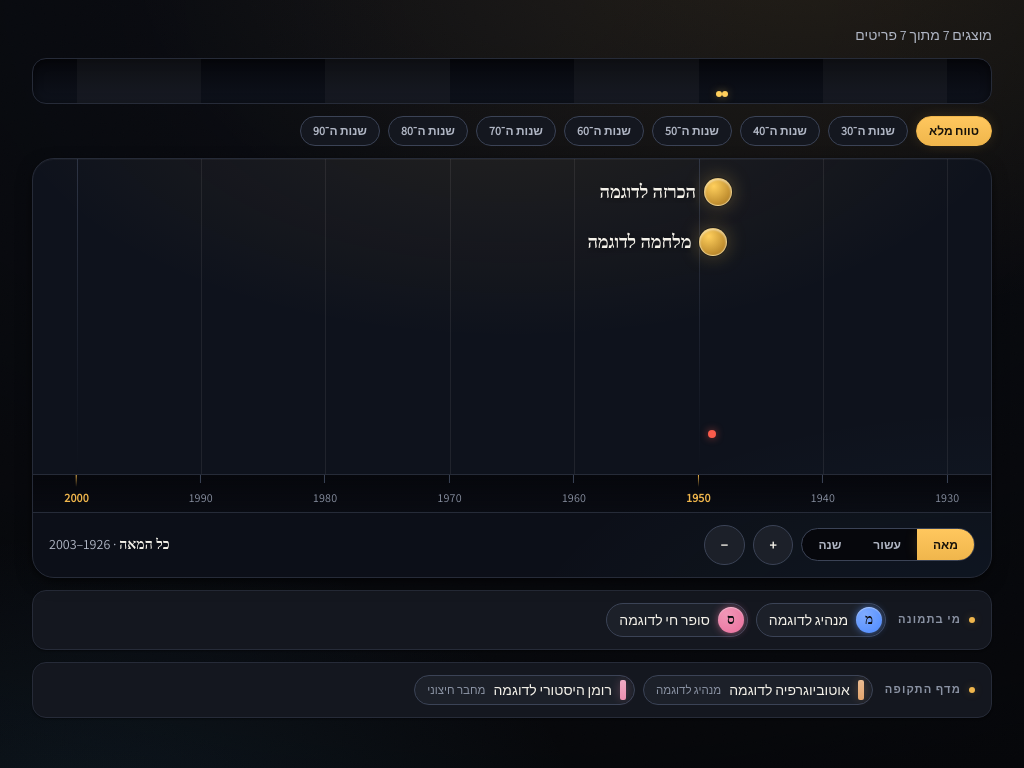
Scenario: TimelineWorkspace — desktop detail panel › person (cast strip) → work traversal re-selects without touching the window
People live in the cast strip (docs/spec/rendering.md), not on the canvas.
Click the button "מ מנהיג לדוגמה": (821, 620) [756,603,886,637]
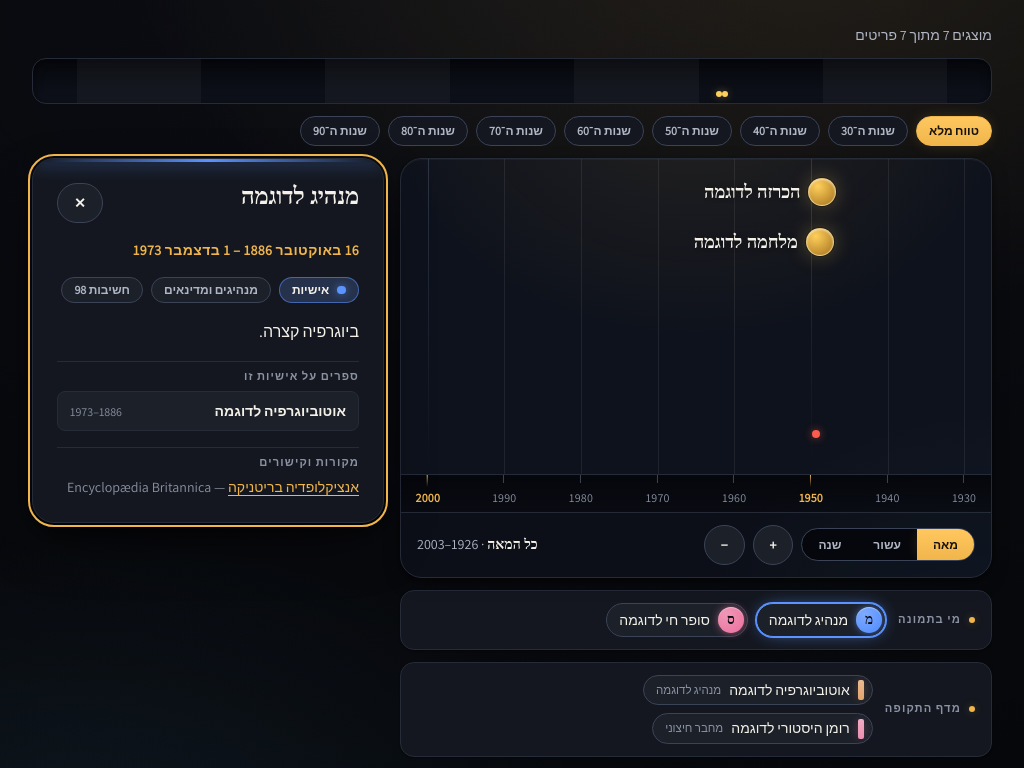
Now the heading "ספרים על אישיות זו" is shown, box [244,369,359,383]
Click the button "אוטוביוגרפיה לדוגמה 1886–1973": (280, 411) [57,391,359,431]
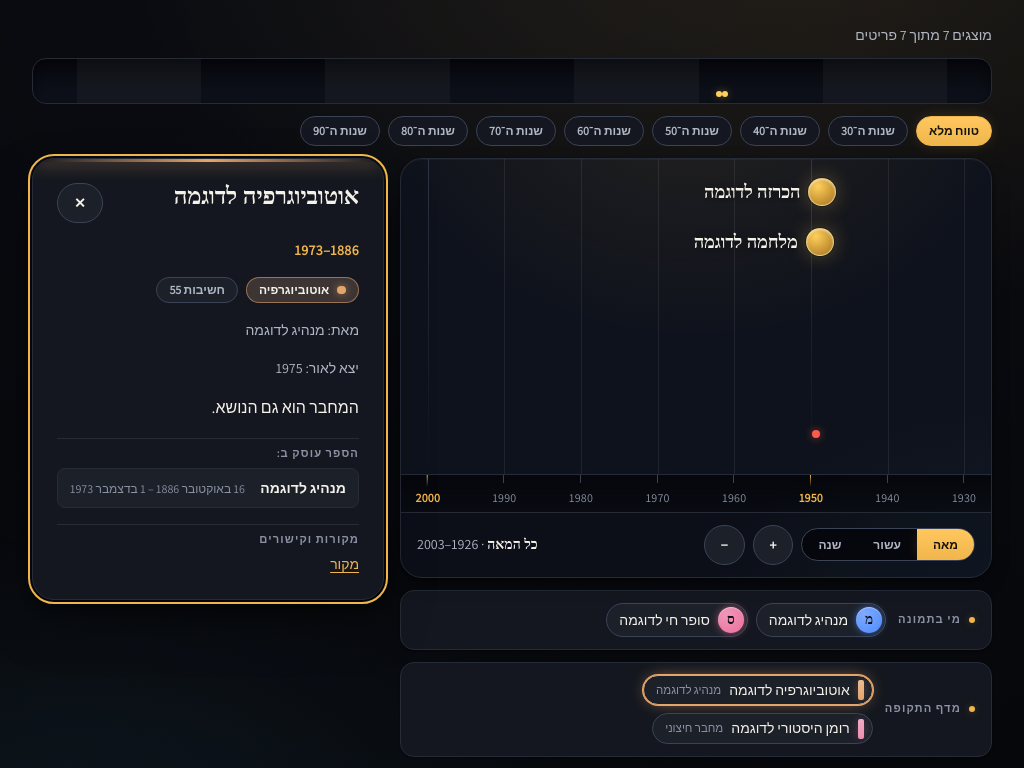
Now the heading "אוטוביוגרפיה לדוגמה" is shown, box [174,183,359,210]
Now the text "1886–1973" is shown, box [294,241,359,259]
